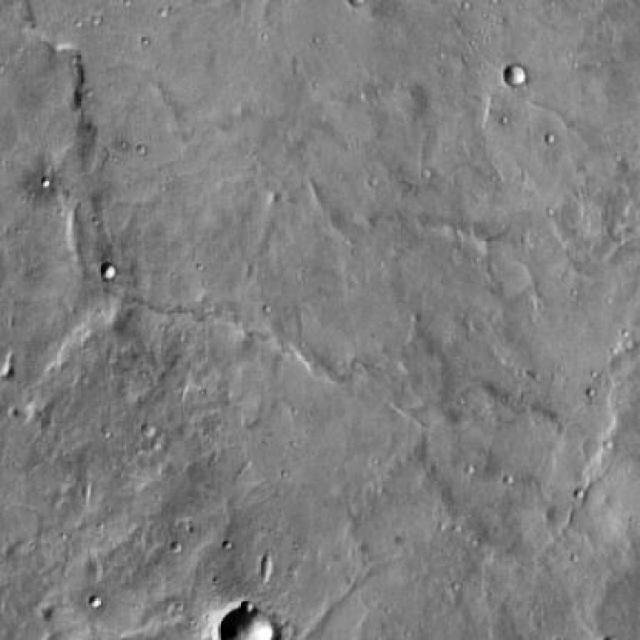crater: (219, 603, 278, 640), (504, 65, 525, 86), (98, 262, 115, 280)
